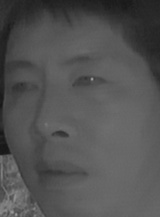eye: (69, 70, 105, 95), (7, 78, 41, 98)
mouth: (31, 155, 89, 191)
